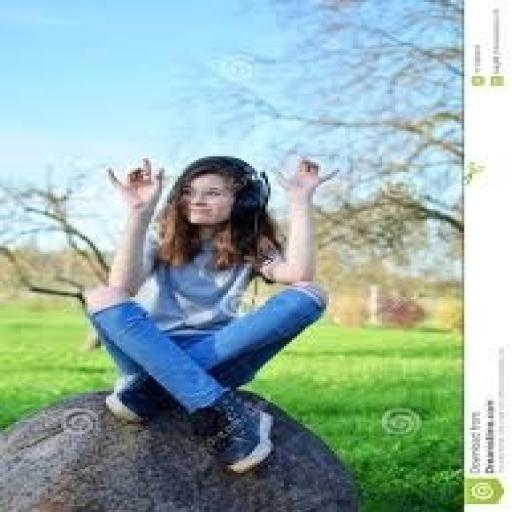listening_to_music: (80, 152, 332, 477)
